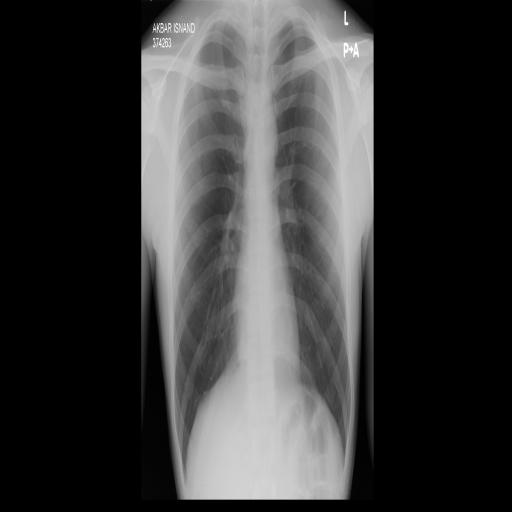normal: (165, 0, 352, 472)
